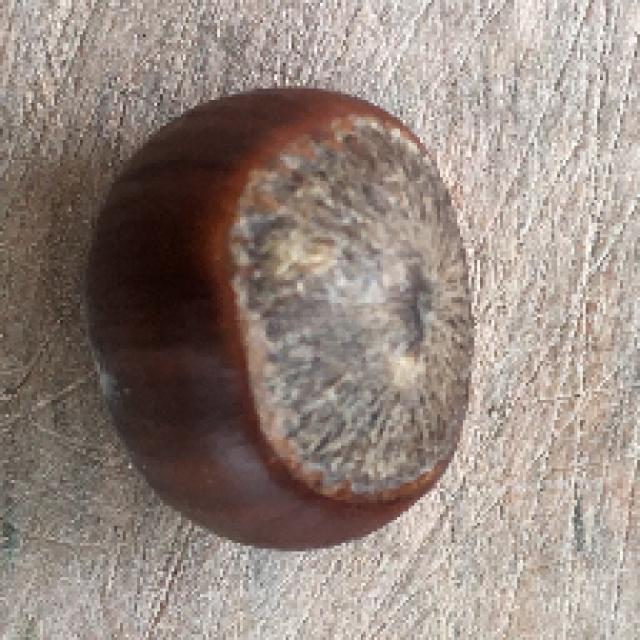damagedHazelnut: (79, 82, 475, 555)
